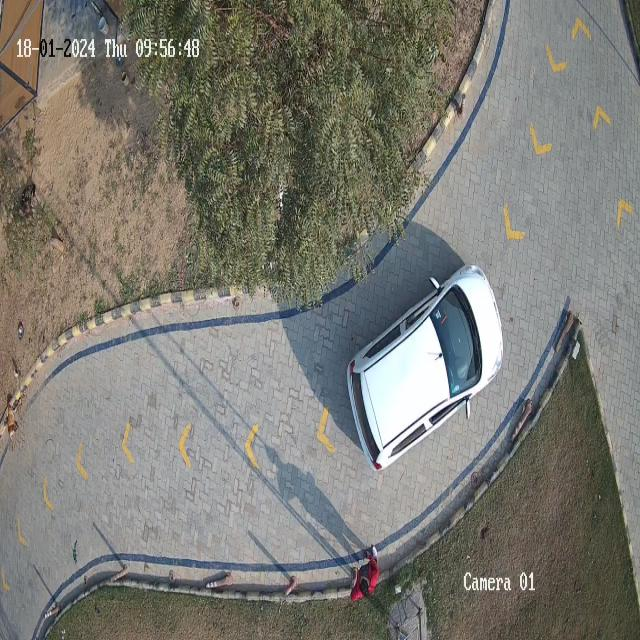car: (348, 264, 504, 471)
